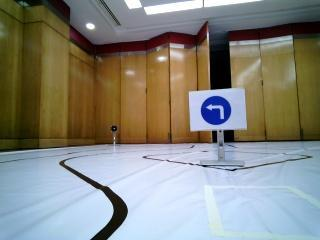left: (189, 90, 241, 128)
